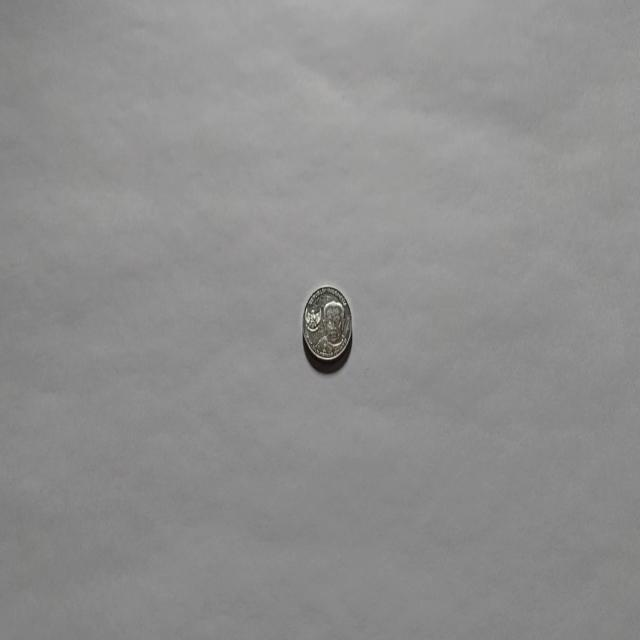seratus rupiah: (302, 282, 352, 370)
